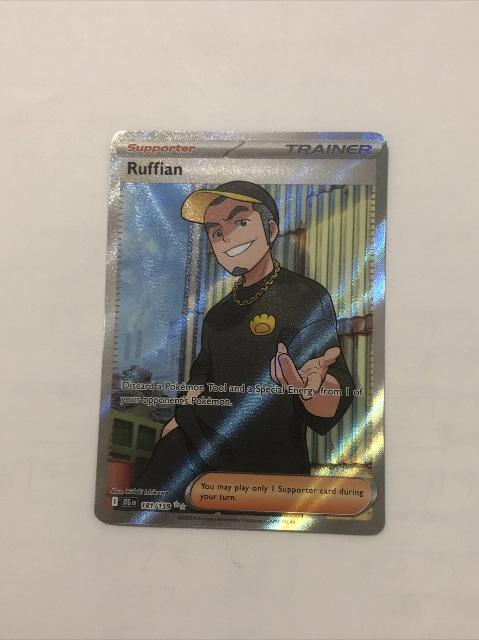Card: (88, 124, 393, 541)
Name: (122, 158, 187, 180)
